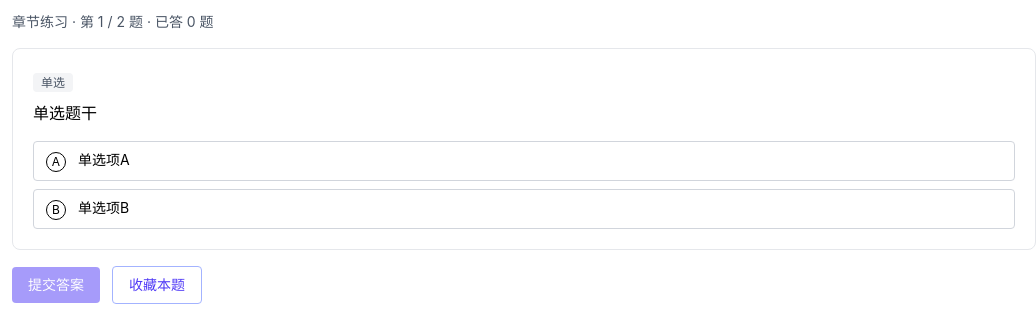
it: PracticeRunner 练习流程 › 收藏本题：POST /favorites，成功后按钮变为已收藏并禁用
Click the button "收藏本题": (157, 285) [112,266,202,304]
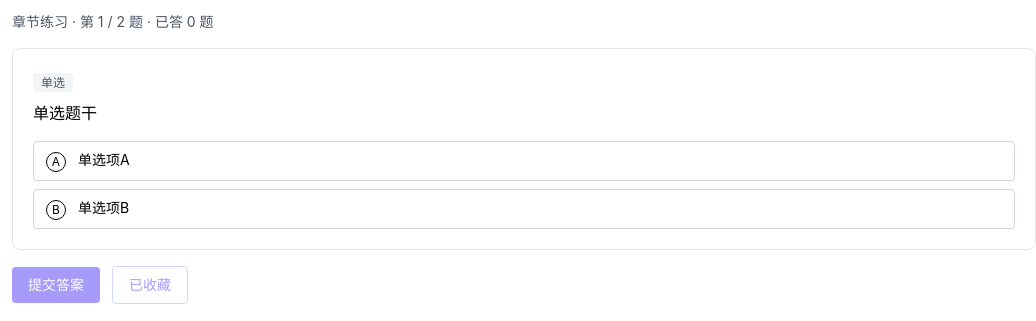
Now the button "已收藏" is disabled, box [112,266,188,304]
